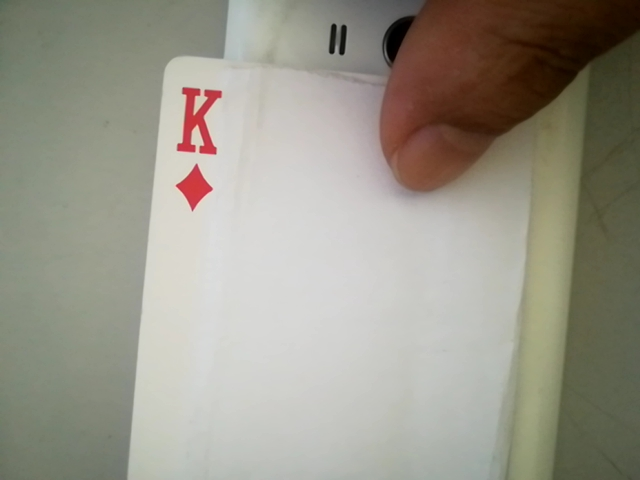fk k: (161, 81, 233, 213)
